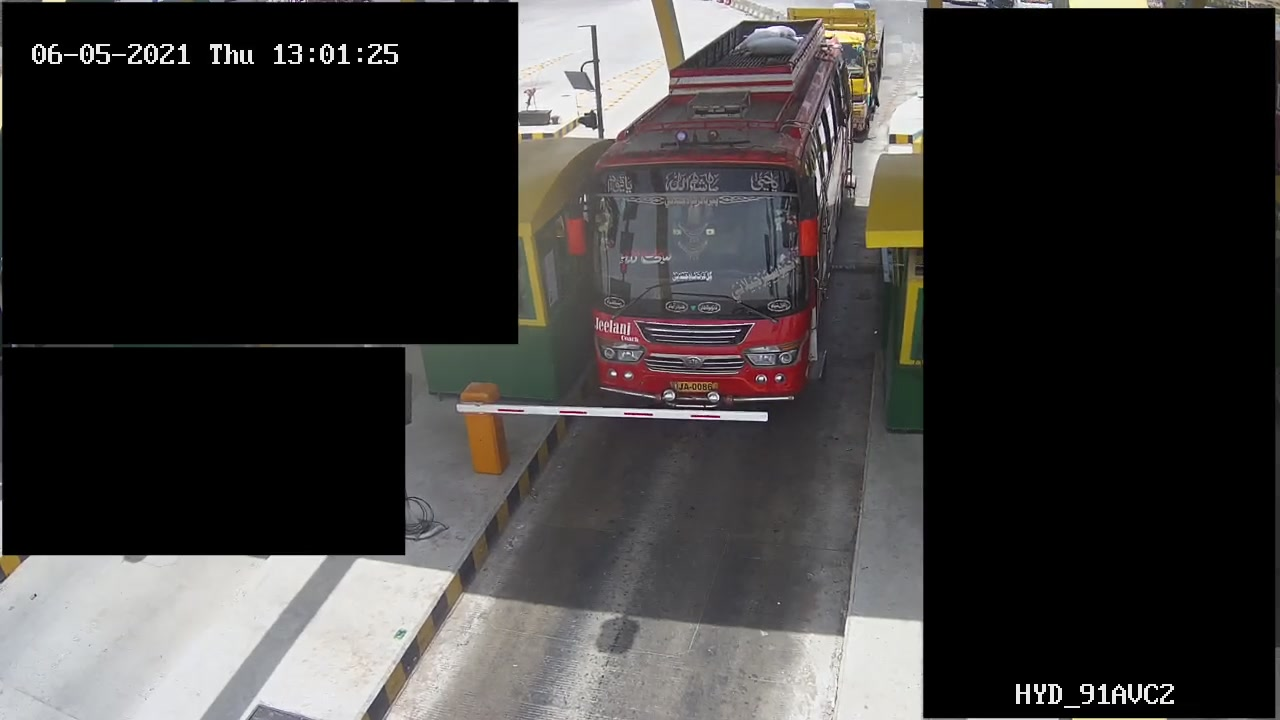F4: (579, 14, 861, 418)
